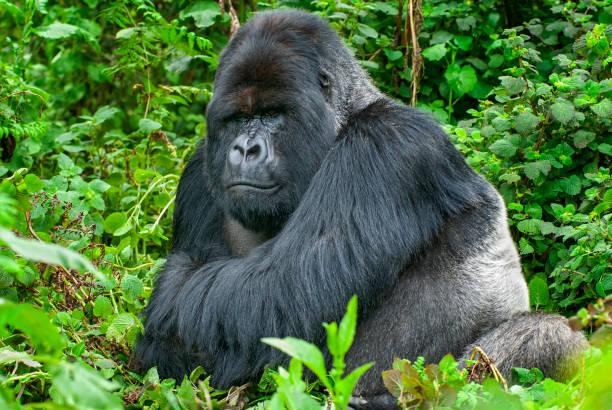goriile_montagne: (153, 0, 574, 399)
